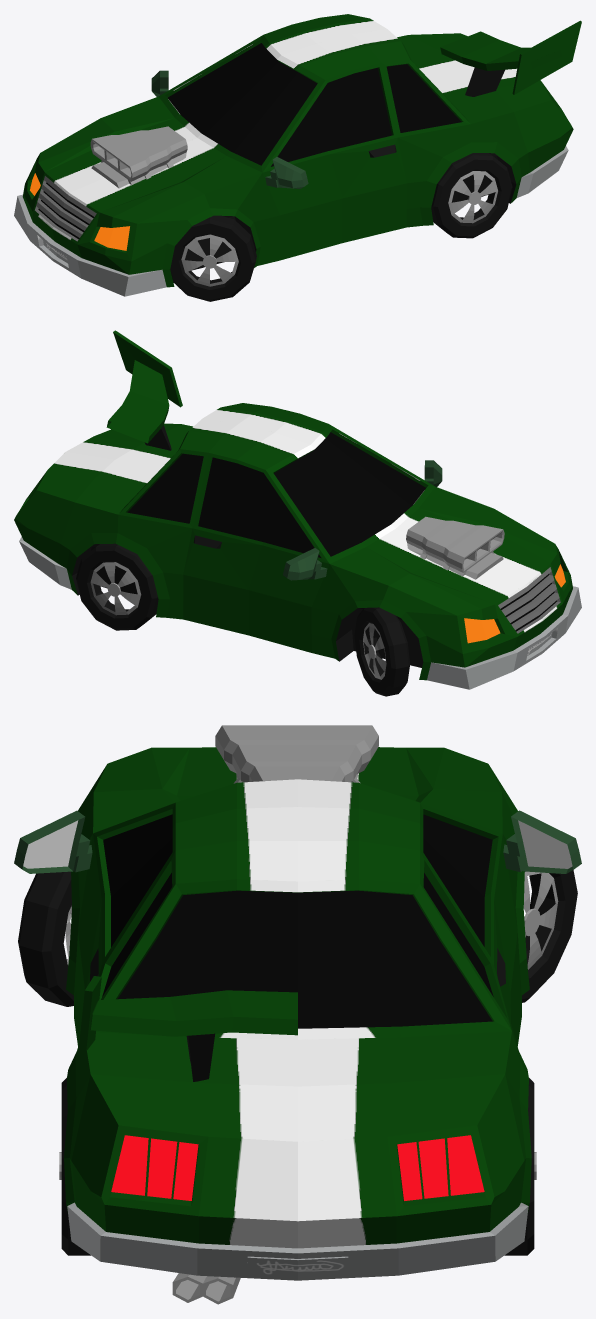
Rendered from RacerCar.glb.
3 views of the same model, one above another, from view 1: azimuth 30°, elevation 25°; view 2: azimuth 150°, elevation 25°; view 3: azimuth 270°, elevation 25° (orthographic). The views are drawn at different scales.
Parts seen in each view (by area): view 1: Carroceria, Aleron, Rueda1, Rueda2, Super cargador, Espejos; view 2: Carroceria, Rueda4, Aleron, Super cargador, Rueda3, Espejos; view 3: Carroceria, Aleron, Super cargador, Espejos, Rueda1, Rueda3, Matriculas, Moflers, Rueda4, Rueda2.
Part boxes in pixels (x1,y1,x2,y2): Carroceria: (14,14,573,296); Aleron: (440,20,581,96); Rueda1: (170,215,256,301); Rueda2: (431,153,512,238); Super cargador: (90,126,187,188); Espejos: (151,70,308,188); Carroceria: (14,403,581,689); Rueda4: (76,543,158,630); Aleron: (106,330,182,450); Super cargador: (406,516,504,579); Rueda3: (354,607,410,696); Espejos: (283,460,442,580); Carroceria: (64,747,531,1280); Aleron: (78,976,297,1081); Super cargador: (215,725,378,783); Espejos: (14,810,581,873); Rueda1: (18,871,73,1006); Rueda3: (522,870,577,1002); Matriculas: (247,1256,348,1276); Moflers: (172,1273,240,1304); Rueda4: (504,1078,536,1255); Rueda2: (59,1078,90,1255).
Bounding box in the file's own units: 7.5 × 2.71 × 3.81.
Materials: 16 (4 with a texture image).
